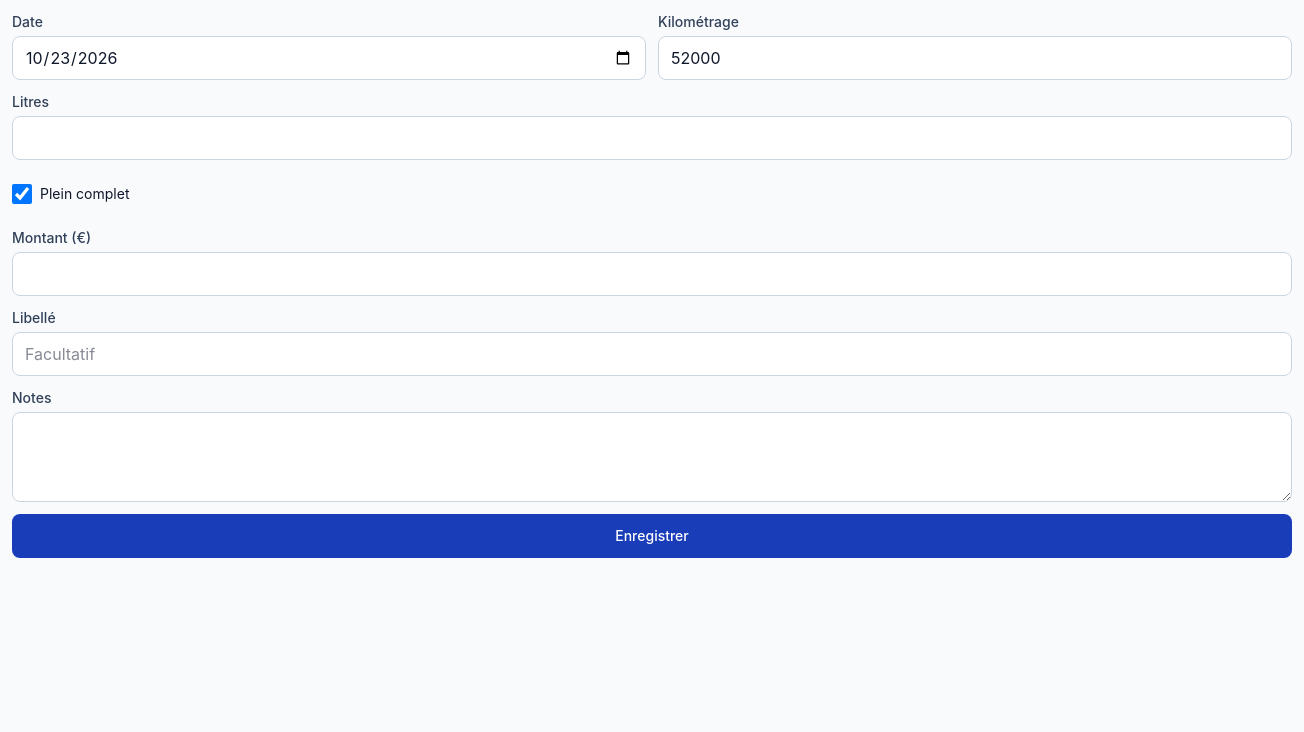
Test: a fuel entry asks for liters and full tank, not category or garage
Expected: the checkbox labelled "Plein complet" is checked, [12, 184, 32, 204]
Click the button "Enregistrer".
click(652, 536)  # box [12, 514, 1292, 558]
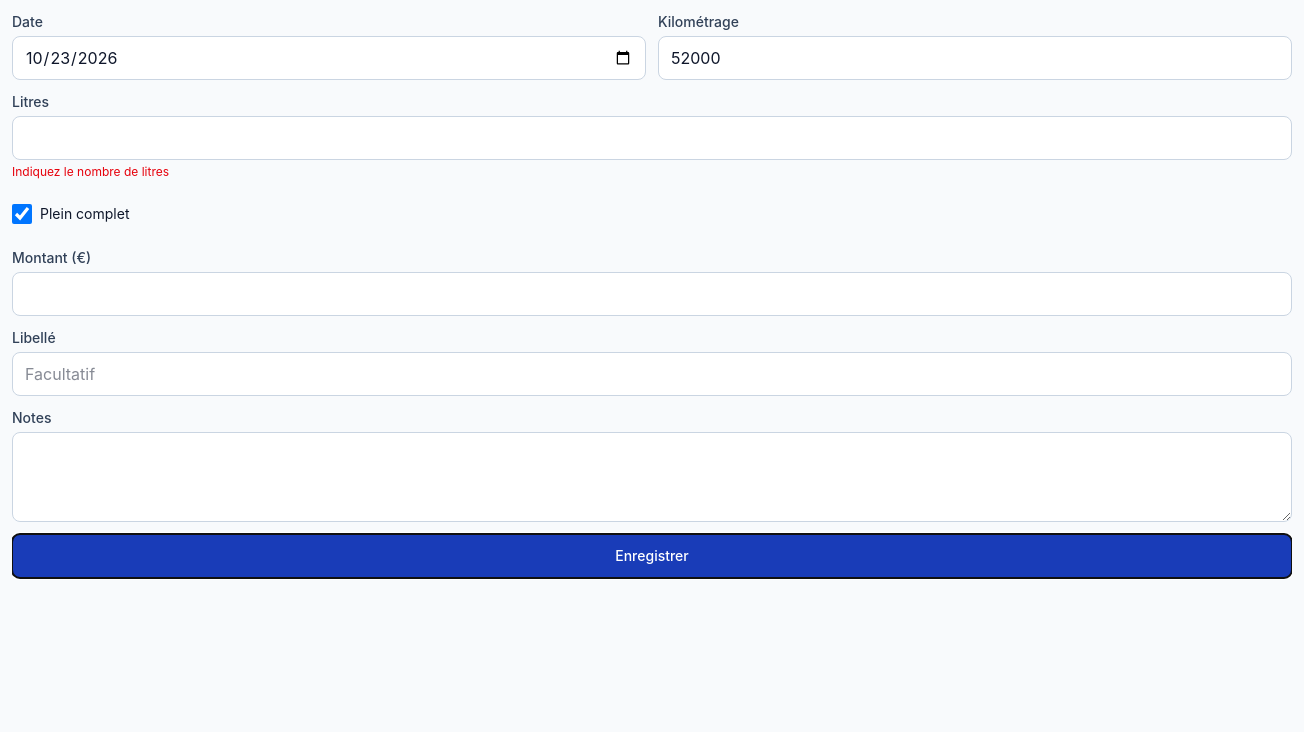
Now the text "Indiquez le nombre de litres" is shown, box [12, 164, 169, 179]
